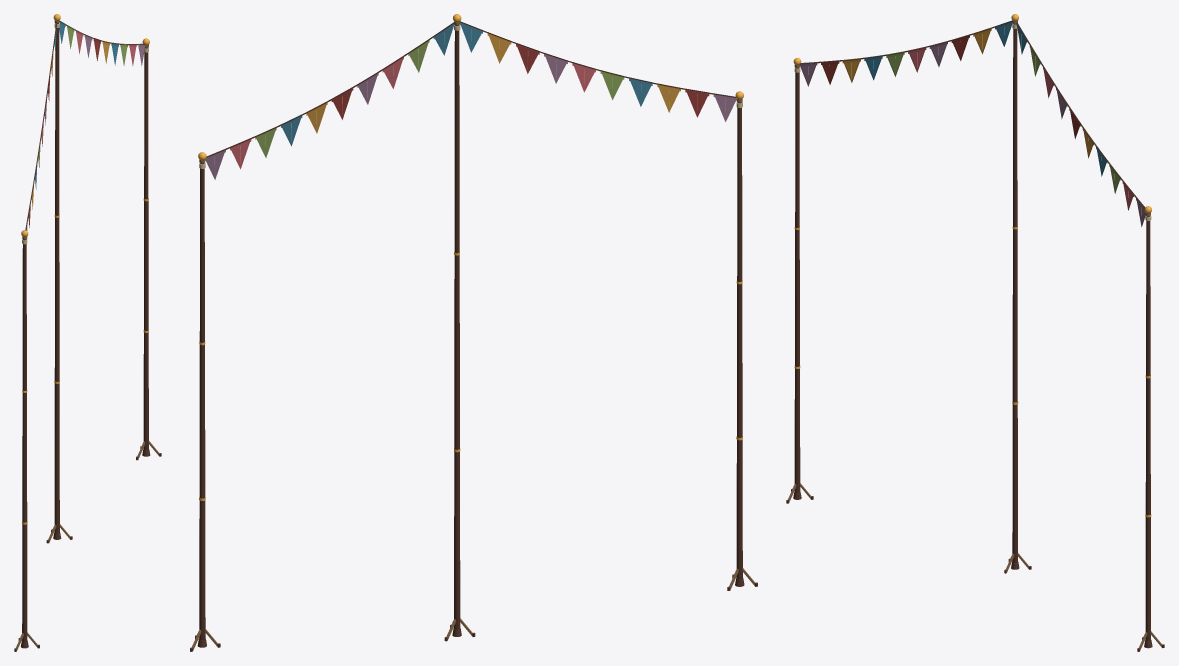
The model's file is bunting.glb.
3 views of the same model, side by side, from view 1: azimuth 30°, elevation 25°; view 2: azimuth 150°, elevation 25°; view 3: azimuth 270°, elevation 25° (orthographic). The views are drawn at different scales.
Parts seen in each view (by area): view 1: body; view 2: body; view 3: body.
Part boxes in pixels (left/top/right/bottom): body: left=14, top=14, right=161, bottom=651; body: left=190, top=14, right=757, bottom=651; body: left=786, top=14, right=1164, bottom=651.
Bounding box in the file's own units: 8.99 × 14.47 × 8.95.
